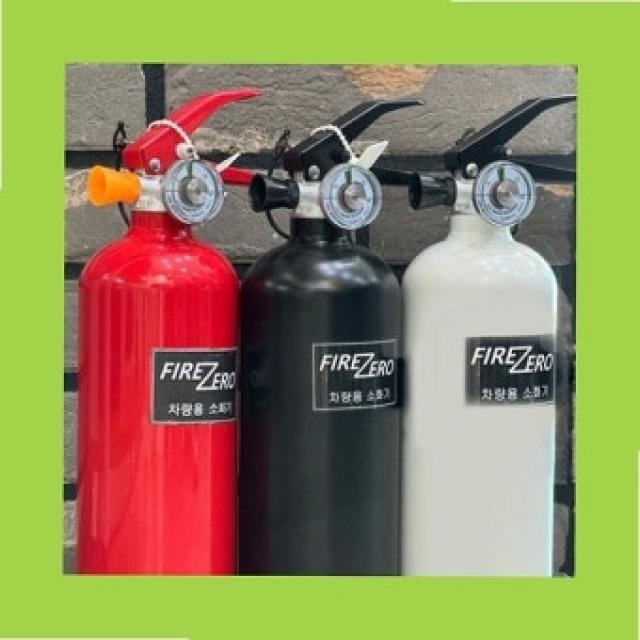pressure gauge: (473, 160, 536, 225), (320, 164, 382, 229), (162, 159, 223, 223)
